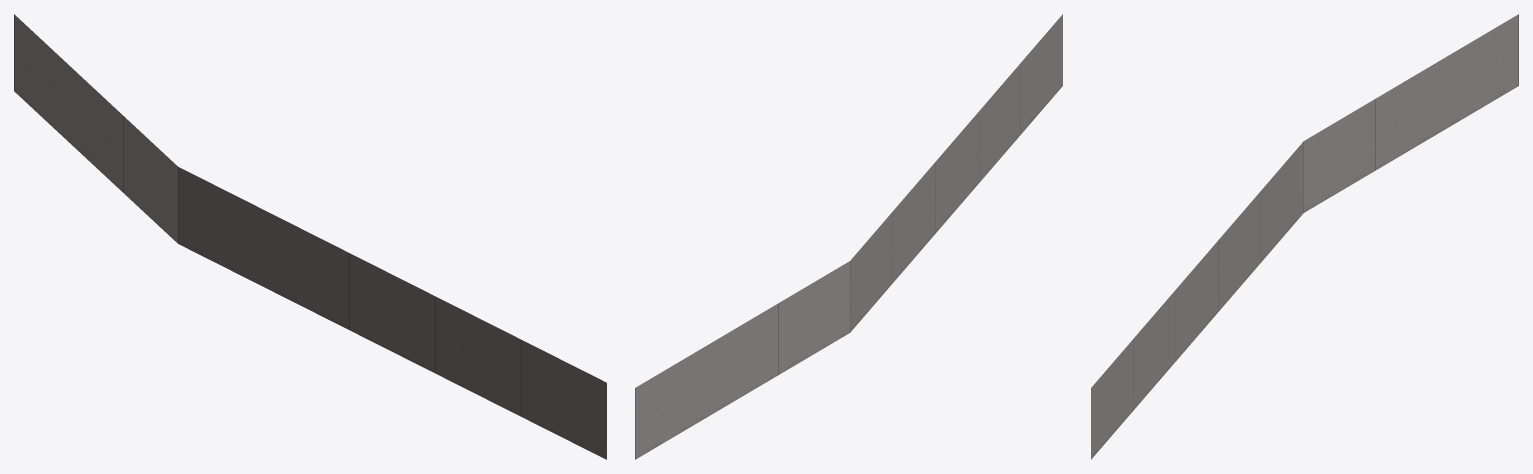
File: kd_stage_135ebf_2_14.glb
The picture shows the model from 3 angles, left to right: view 1: azimuth 30°, elevation 25°; view 2: azimuth 150°, elevation 25°; view 3: azimuth 330°, elevation 25°; orthographic projection. The views are drawn at different scales.
Visible parts, largest first — view 1: kd_stage_135ebf_2_14; view 2: kd_stage_135ebf_2_14; view 3: kd_stage_135ebf_2_14.
Part boxes in pixels (x1,y1,x2,y2): kd_stage_135ebf_2_14: (14,14,606,459); kd_stage_135ebf_2_14: (635,14,1062,459); kd_stage_135ebf_2_14: (1091,14,1518,459).
Bounding box in the file's own units: 2.72 × 2 × 24.68.
Materials: 1 (1 with a texture image).
